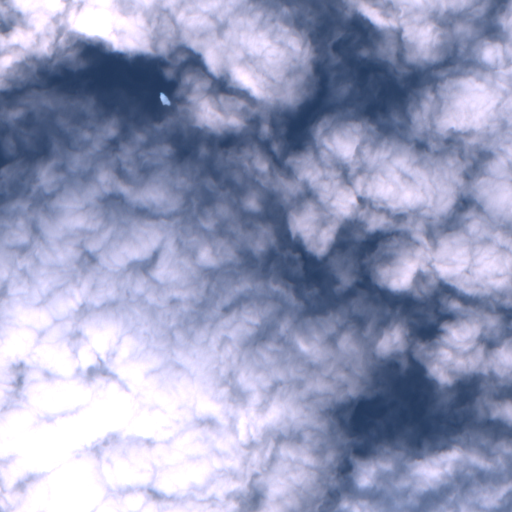Iceberg: (159, 92, 170, 105)
